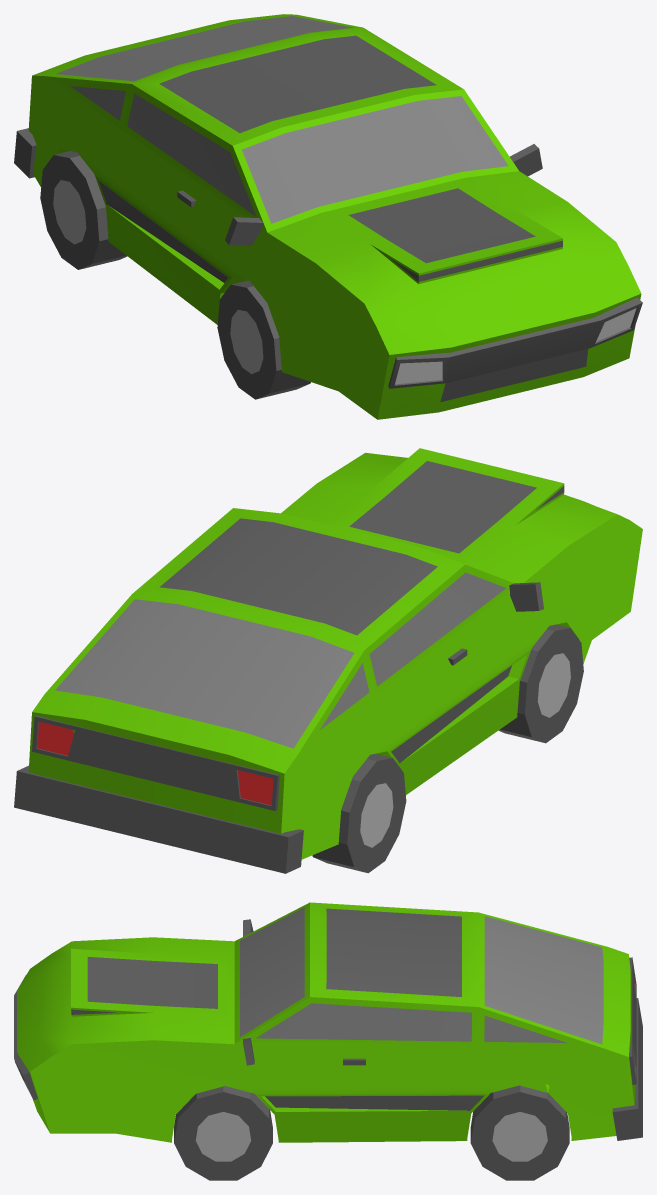
The model's file is SM_Car_06_05.FBX.
The picture shows the model from 3 angles, top to bottom: view 1: azimuth 30°, elevation 25°; view 2: azimuth 150°, elevation 25°; view 3: azimuth 270°, elevation 25°; orthographic projection. The views are drawn at different scales.
Visible parts, largest first — view 1: SM_Car_06_05, SM_Wheel_RBack001, SM_Wheel_LFront001; view 2: SM_Car_06_05, SM_Wheel_RBack001, SM_Wheel_LFront001; view 3: SM_Car_06_05, SM_Wheel_LBack001, SM_Wheel_LFront002.
Boxes of the visible parts, x1,y1,x2,y2 form: SM_Car_06_05: [14, 14, 642, 419]; SM_Wheel_RBack001: [40, 151, 127, 269]; SM_Wheel_LFront001: [217, 280, 310, 399]; SM_Car_06_05: [14, 448, 642, 873]; SM_Wheel_RBack001: [312, 753, 406, 873]; SM_Wheel_LFront001: [498, 624, 583, 743]; SM_Car_06_05: [14, 902, 642, 1142]; SM_Wheel_LBack001: [470, 1085, 569, 1180]; SM_Wheel_LFront002: [174, 1086, 272, 1180].
Bounding box in the file's own units: 1.52 × 0.9605 × 3.15.
Materials: 1 (1 with a texture image).
